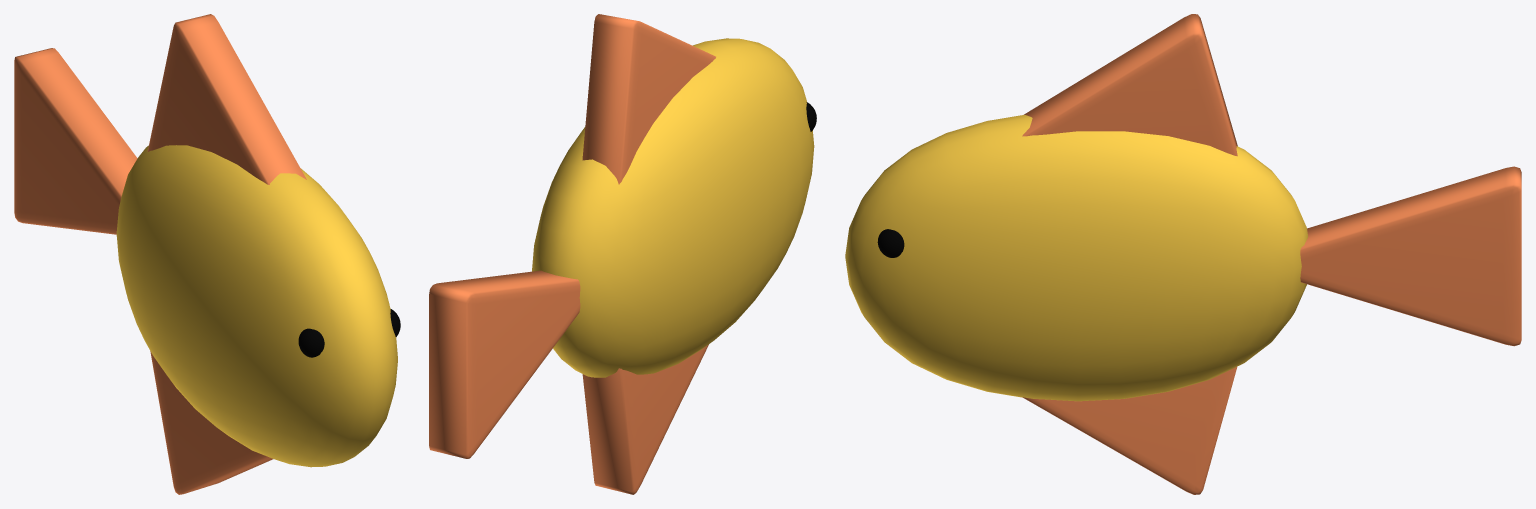
Rendered from poisson.glb.
The picture shows the model from 3 angles, left to right: view 1: azimuth 30°, elevation 25°; view 2: azimuth 150°, elevation 25°; view 3: azimuth 270°, elevation 25°; orthographic projection.
Parts seen in each view (by area): view 1: Cube.001; view 2: Cube.001; view 3: Cube.001.
Boxes of the visible parts, x1=… form: Cube.001: x1=14, y1=14, x2=400, y2=494; Cube.001: x1=429, y1=14, x2=816, y2=494; Cube.001: x1=845, y1=14, x2=1521, y2=494.
Size of the model in its own units: 0.8809 by 2.77 by 3.66.
